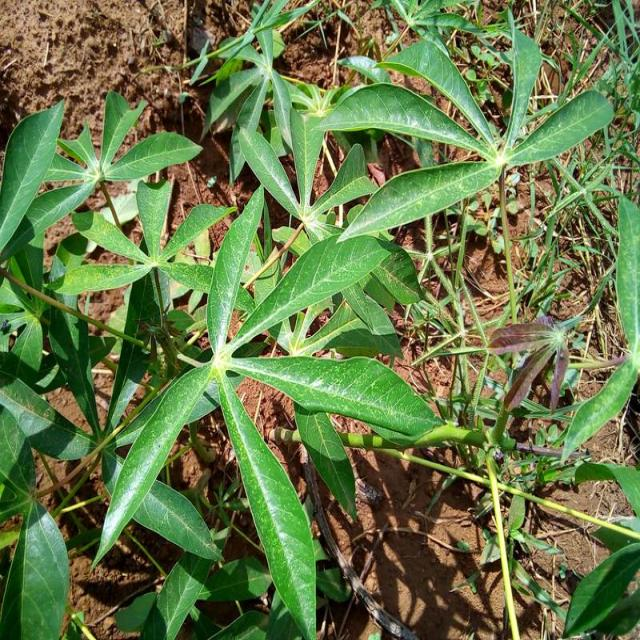cassava leaf: (1, 2, 634, 637), (92, 183, 443, 637)
